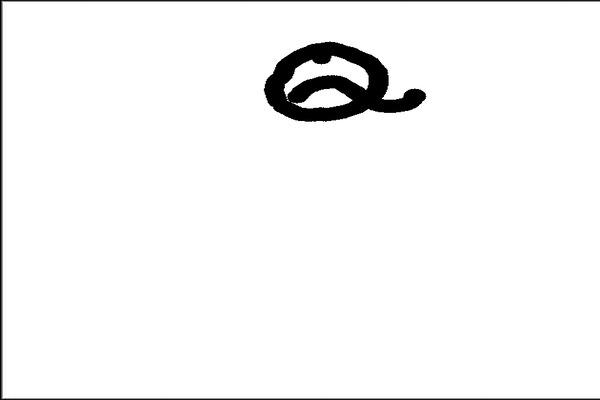Q: (258, 31, 424, 130)
